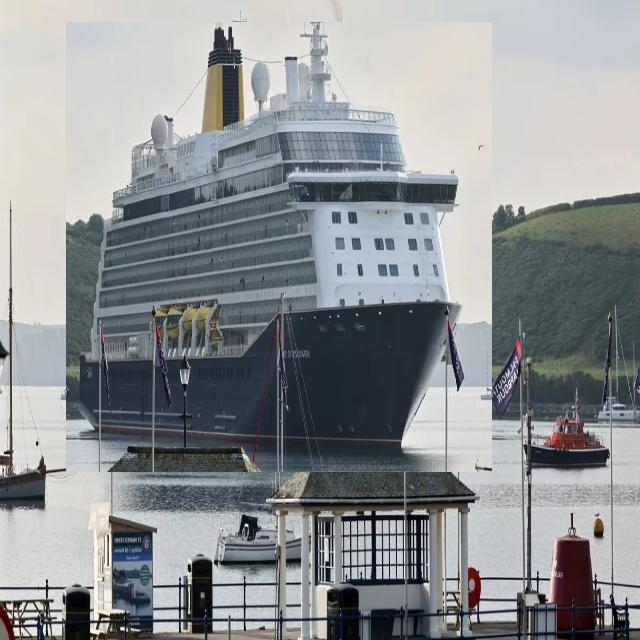PassengerShip: (66, 22, 492, 472)
